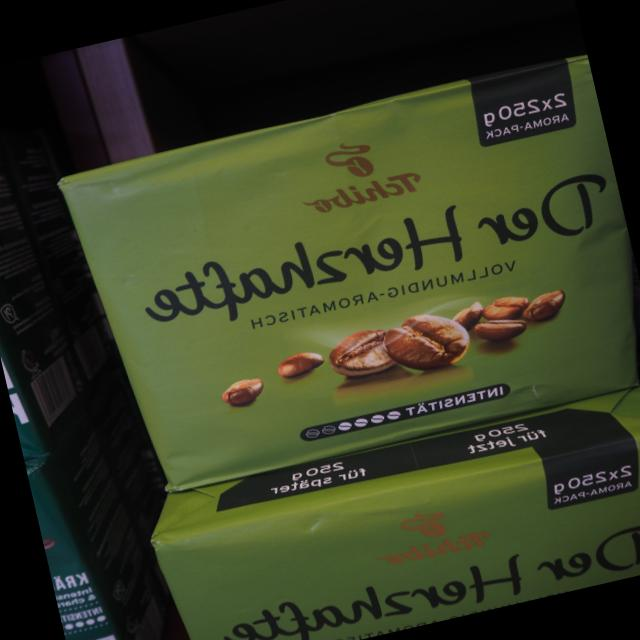Herzhatfe Mundig: (50, 48, 640, 497), (145, 432, 640, 640)
